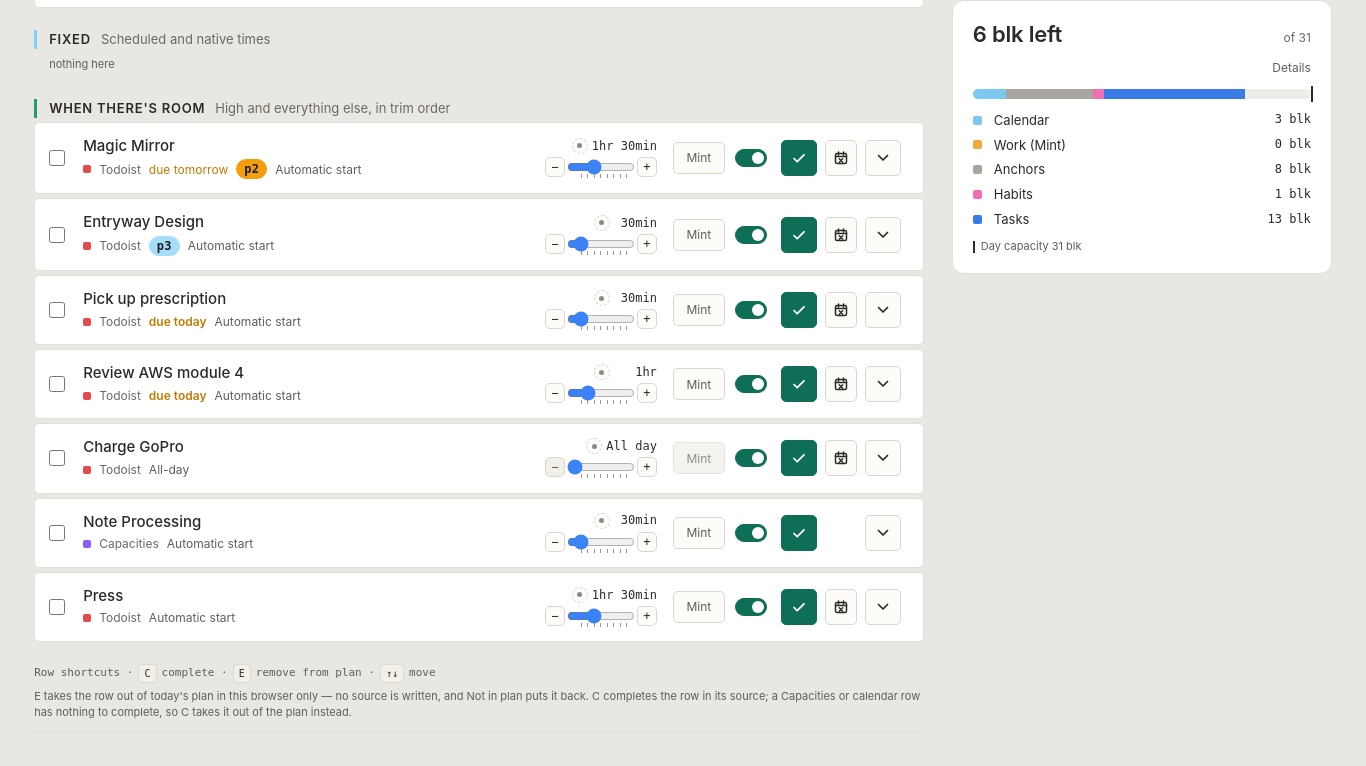
Scenario: typed exact duration on the expanded row › Enter applies exact minutes as fractional blocks at once, no Save step
(page scrolled)
Click the 7th button named "Expand".
click(883, 607)  # box [865,589,901,625]
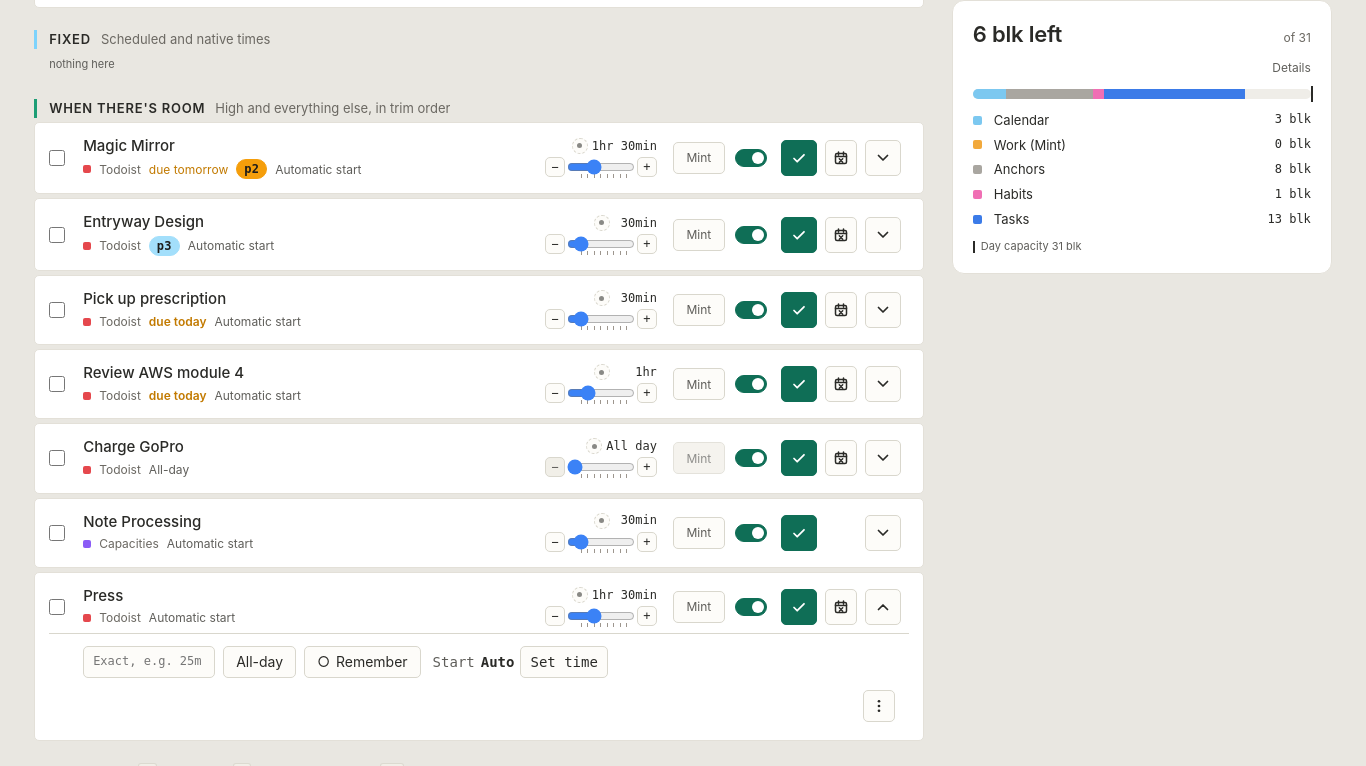
Type "10m" into the field named "Exact minutes".
click(149, 662); type("10m")  # box [83,646,215,678]
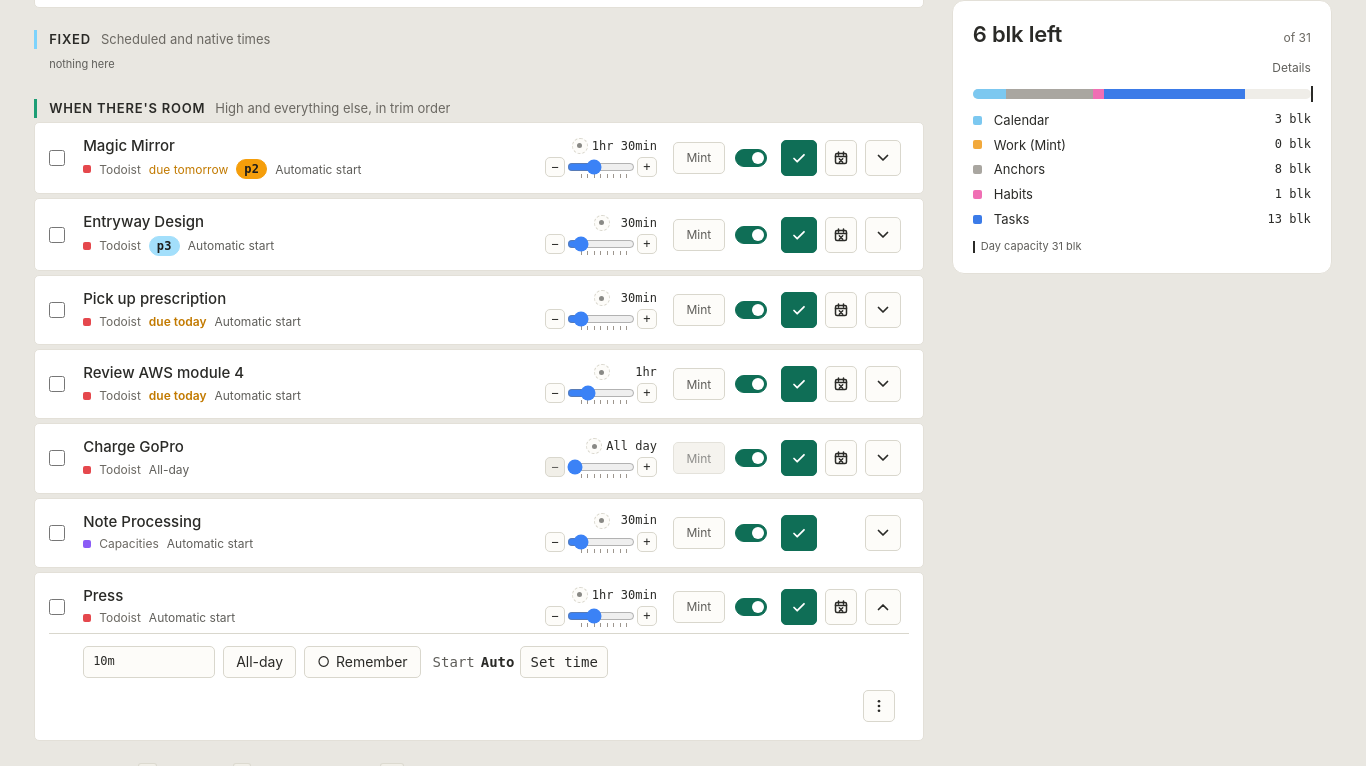
Press Enter in the field named "Exact minutes", box [83,646,215,678]
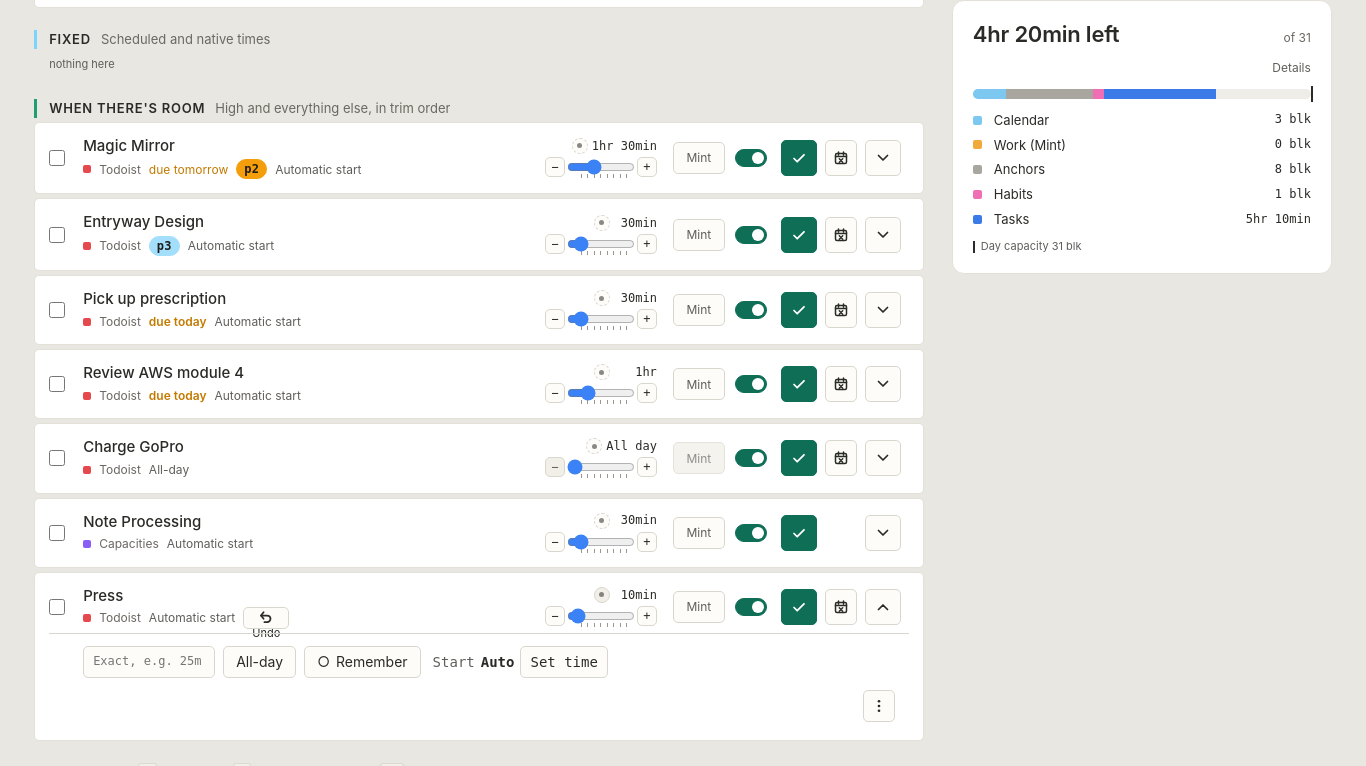
expect the text with class "dslider__label" reads "10min": met, box [621,588,657,602]
expect the button "Undo" is shown: met, box [243,607,289,629]
